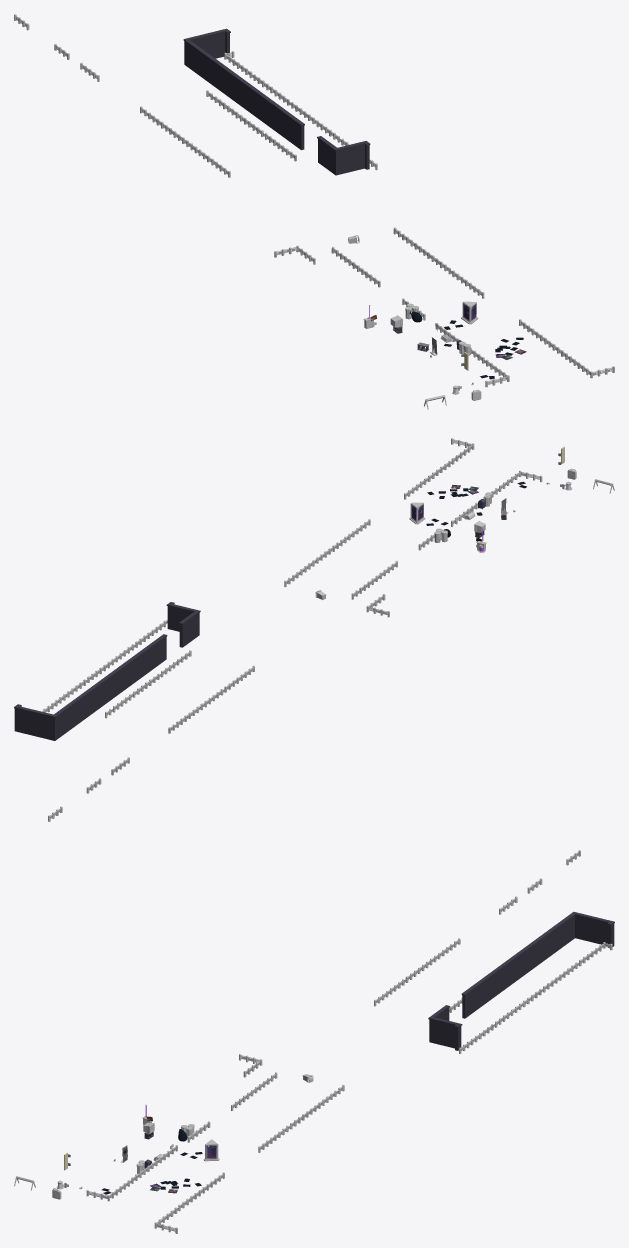
Rendered from DBFencesandDebris.fbx.
3 views of the same model, one above another, from view 1: azimuth 30°, elevation 25°; view 2: azimuth 150°, elevation 25°; view 3: azimuth 330°, elevation 25° (orthographic). The views are drawn at different scales.
Parts seen in each view (by area): view 1: wall.001, Fence.002, Fence.013, Fence.012; view 2: wall.001, Fence.013, Fence.021, Fence.012, Fence.002; view 3: wall.001, Fence.021, Fence.002, Fence.013.
Part boxes in pixels (box(x1,y1,x2,y2)): wall.001: box(183, 28, 370, 175); Fence.002: box(140, 106, 230, 177); Fence.013: box(393, 227, 484, 298); Fence.012: box(206, 90, 296, 161); wall.001: box(14, 602, 200, 740); Fence.013: box(284, 519, 370, 587); Fence.021: box(79, 619, 167, 688); Fence.012: box(105, 650, 191, 718); Fence.002: box(168, 665, 254, 733); wall.001: box(428, 912, 614, 1050); Fence.021: box(459, 983, 549, 1053); Fence.002: box(374, 938, 460, 1006); Fence.013: box(258, 1084, 344, 1152).
Size of the model in its own units: 5452 by 982 by 22339.
